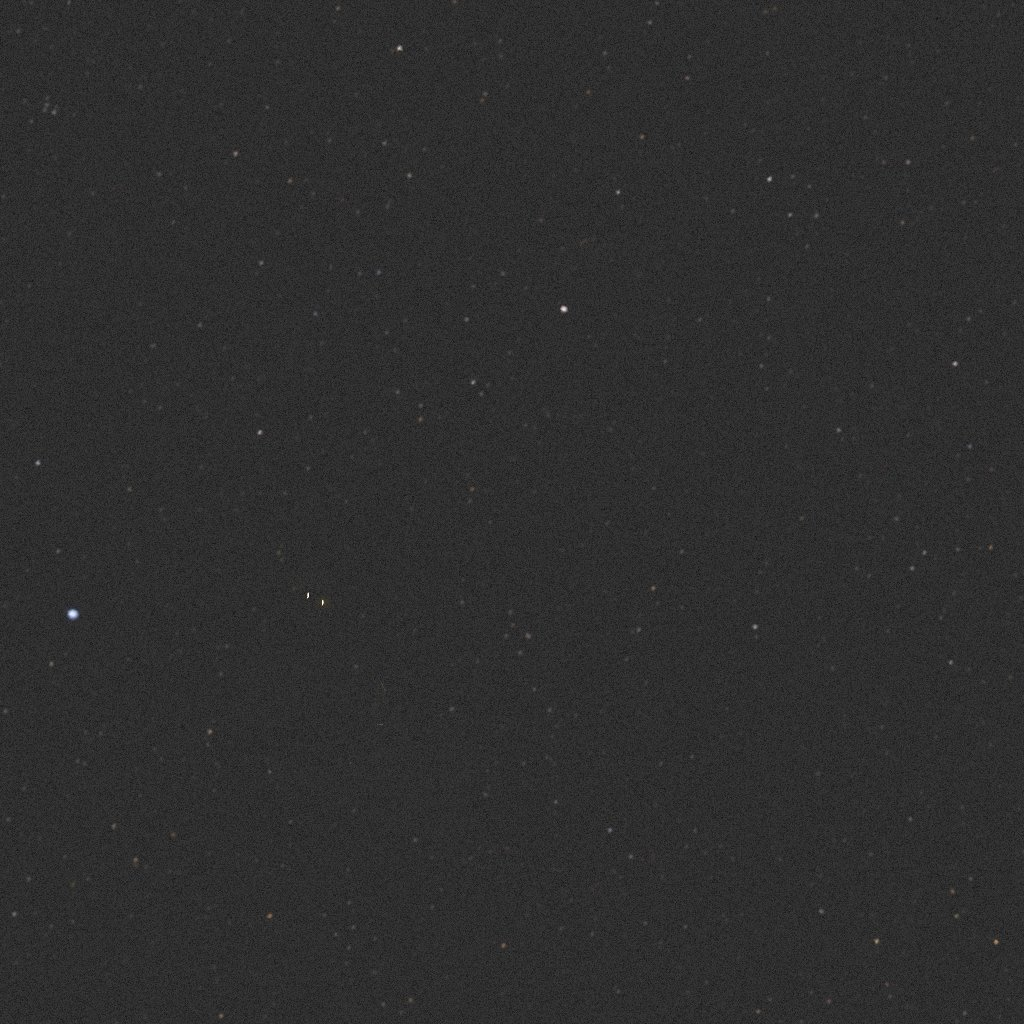earth_observation_sat_1: (230, 564, 481, 851)
